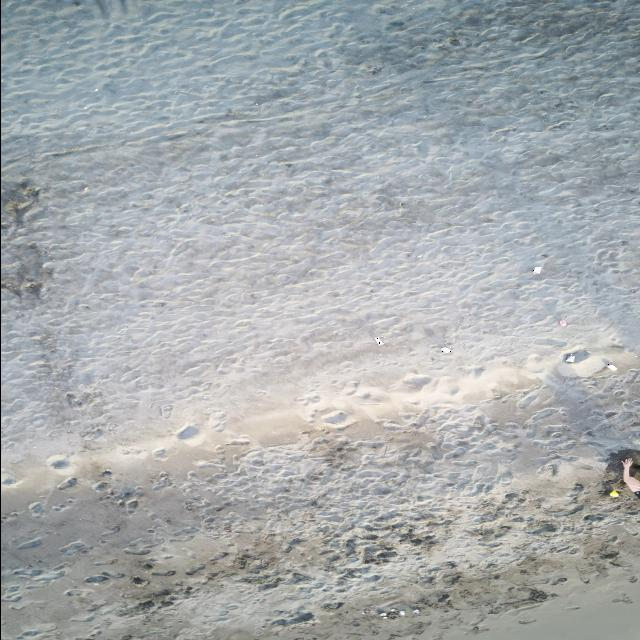Garbage: (563, 348, 590, 363), (176, 424, 198, 439), (379, 607, 404, 619), (56, 476, 76, 487), (387, 607, 399, 617), (565, 352, 575, 362), (608, 488, 619, 496), (440, 346, 451, 352), (375, 336, 383, 344), (557, 319, 566, 326), (607, 363, 615, 369), (532, 266, 540, 272), (399, 609, 404, 615), (413, 608, 419, 613), (380, 612, 386, 615)
